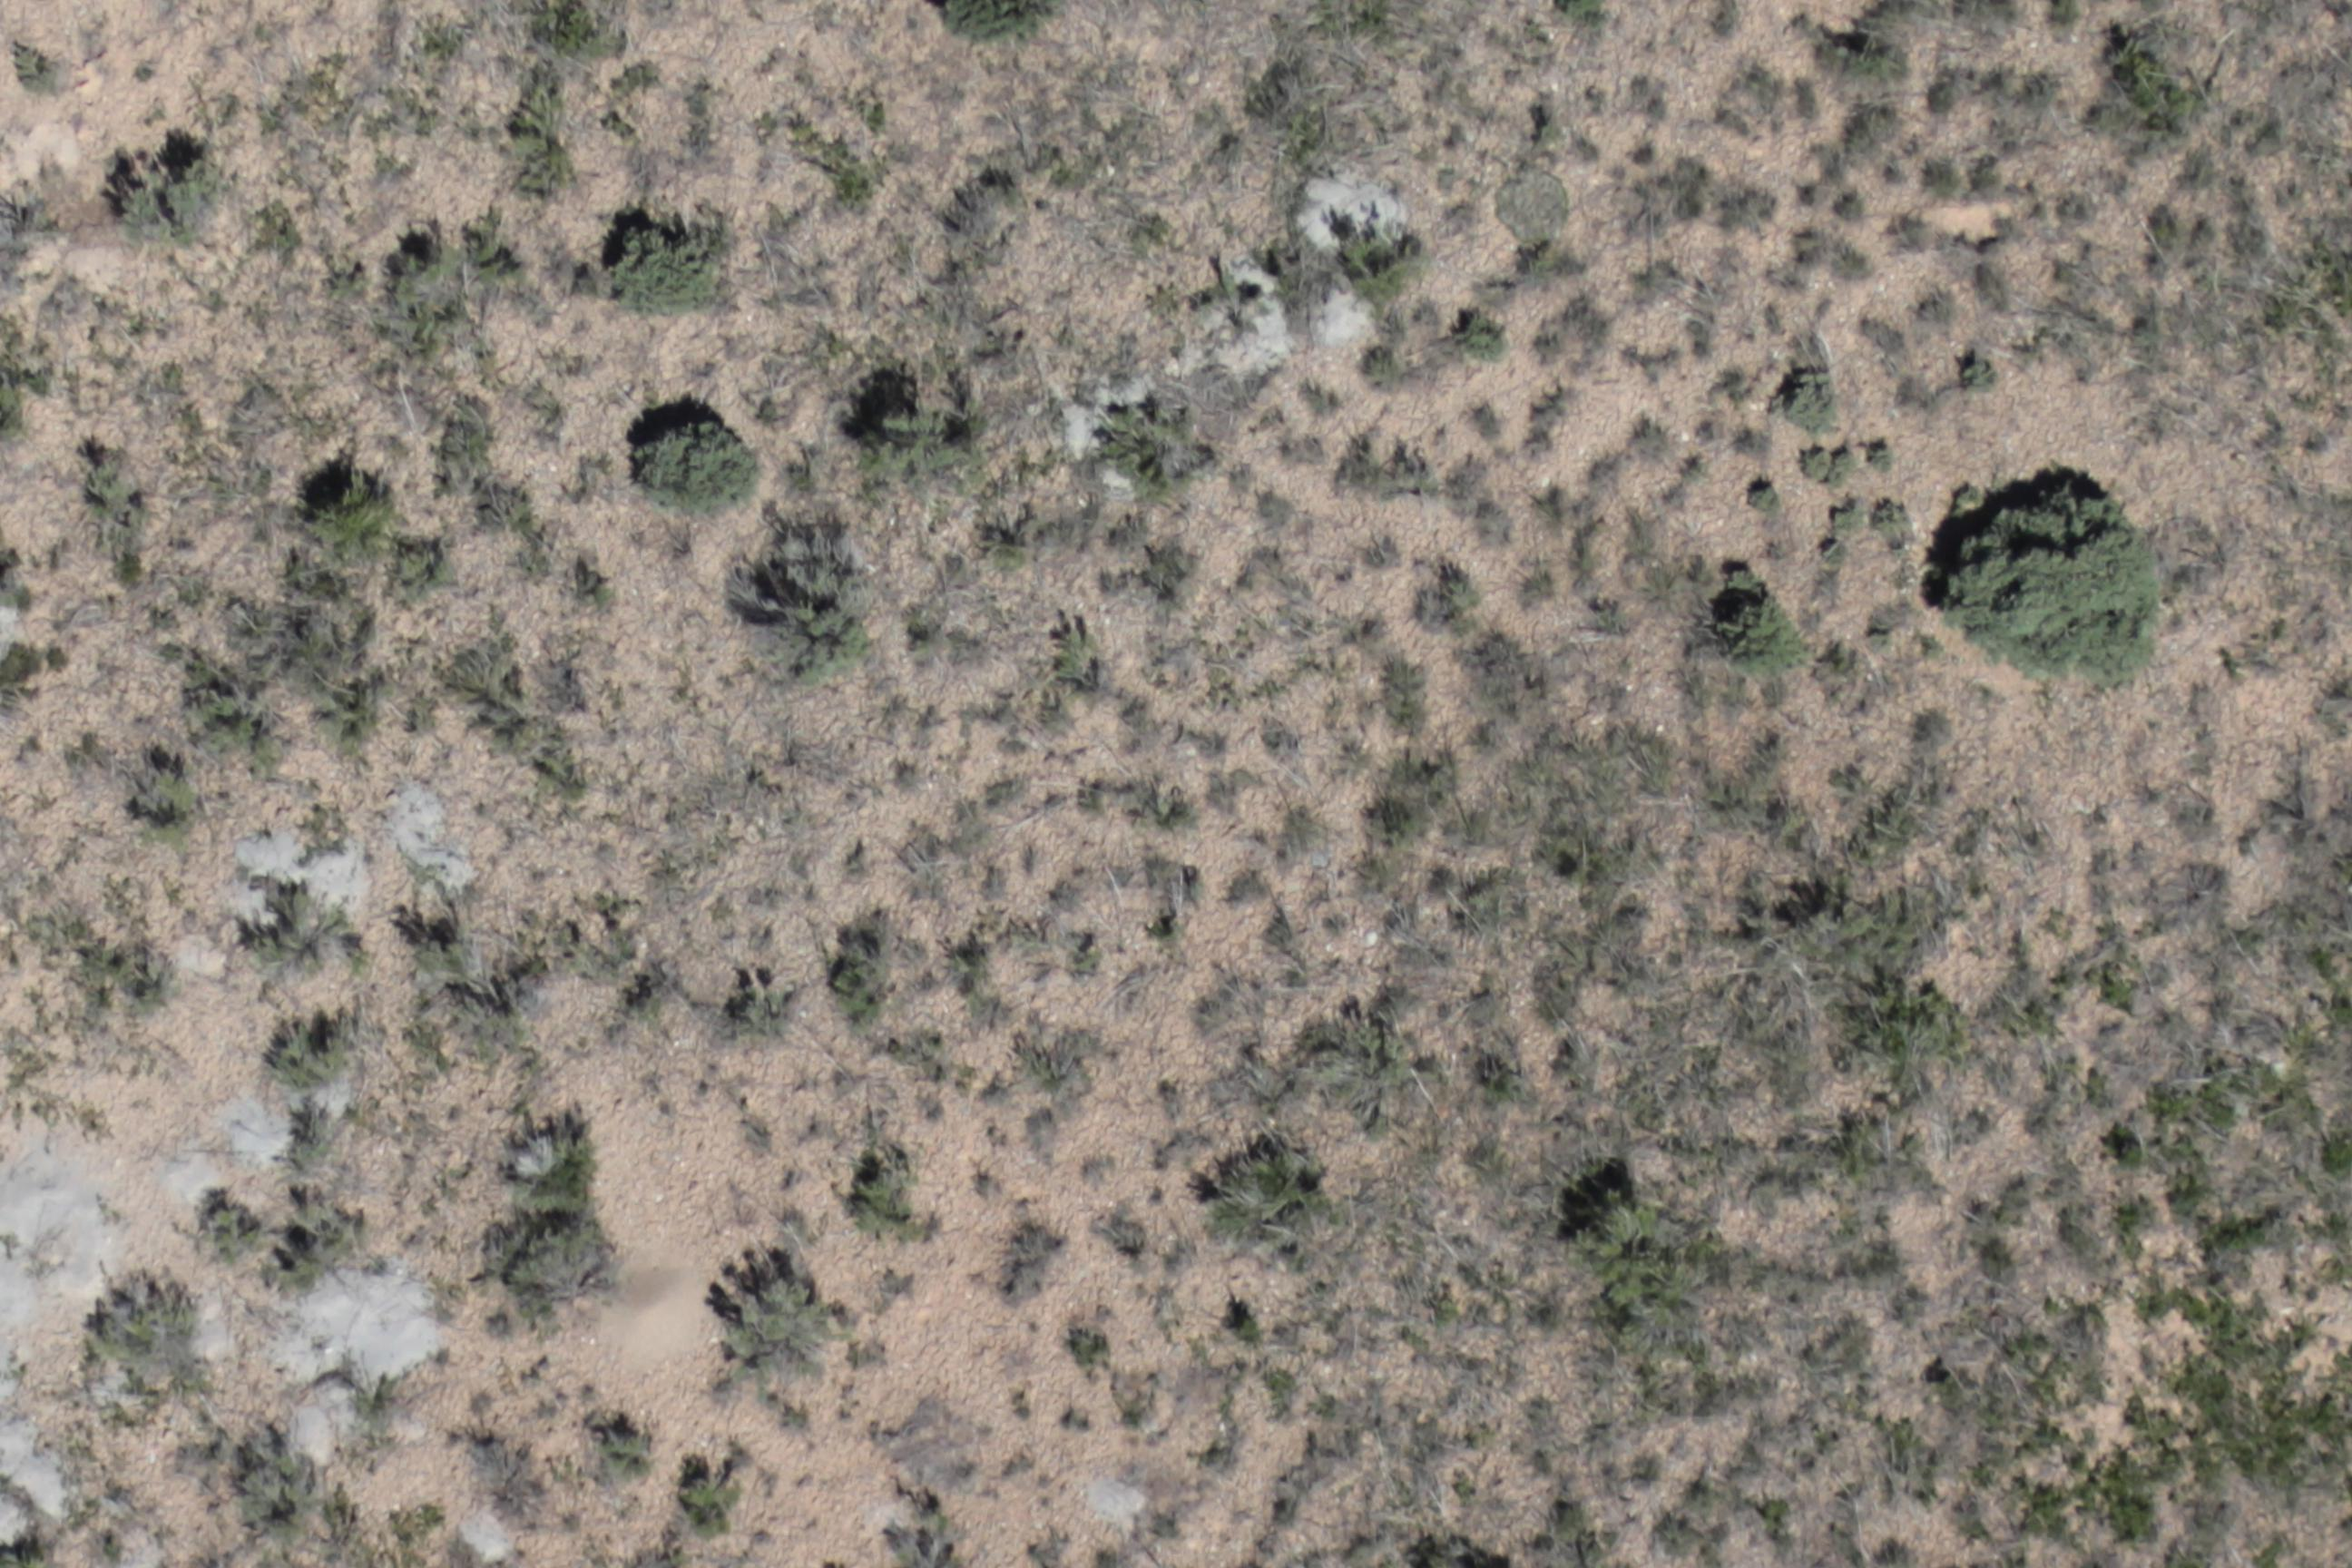burrow: (581, 1248, 737, 1379)
